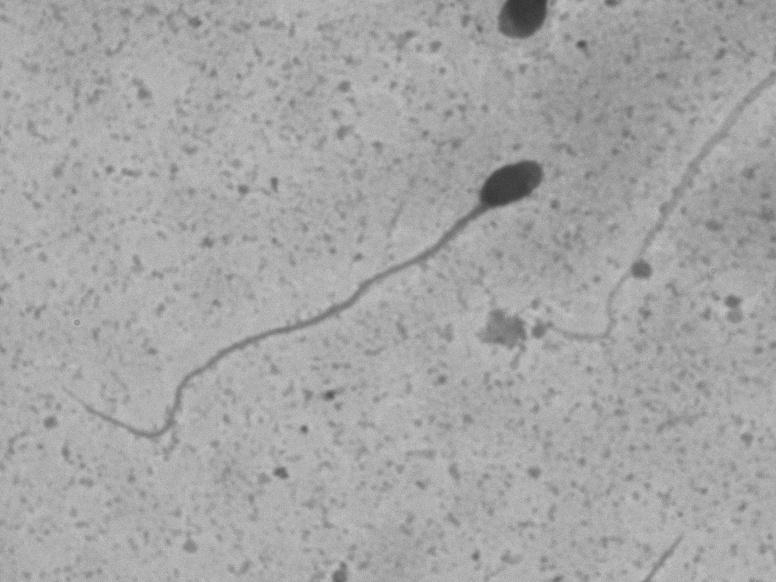Abnormal: (56, 125, 563, 512)
